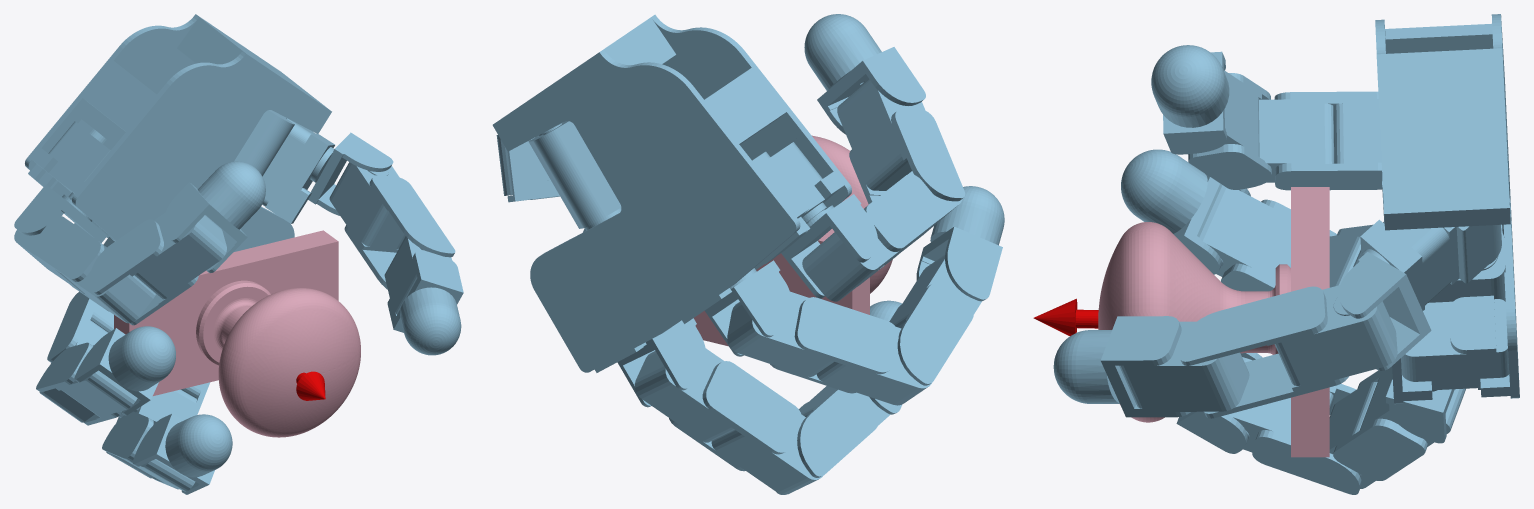
The picture shows the model from 3 angles, left to right: view 1: azimuth 30°, elevation 25°; view 2: azimuth 150°, elevation 25°; view 3: azimuth 270°, elevation 25°; orthographic projection. The views are drawn at different scales.
Visible parts, largest first — view 1: world, door_knob.stl; view 2: world, door_knob.stl; view 3: world, door_knob.stl.
Part boxes in pixels (x1,y1,x2,y2): world: [14, 14, 463, 494]; door_knob.stl: [114, 230, 360, 437]; world: [492, 14, 1004, 494]; door_knob.stl: [693, 135, 892, 346]; world: [1033, 14, 1519, 494]; door_knob.stl: [1098, 187, 1329, 457].
Size of the model in its own units: 0.1758 by 0.1817 by 0.1577.
